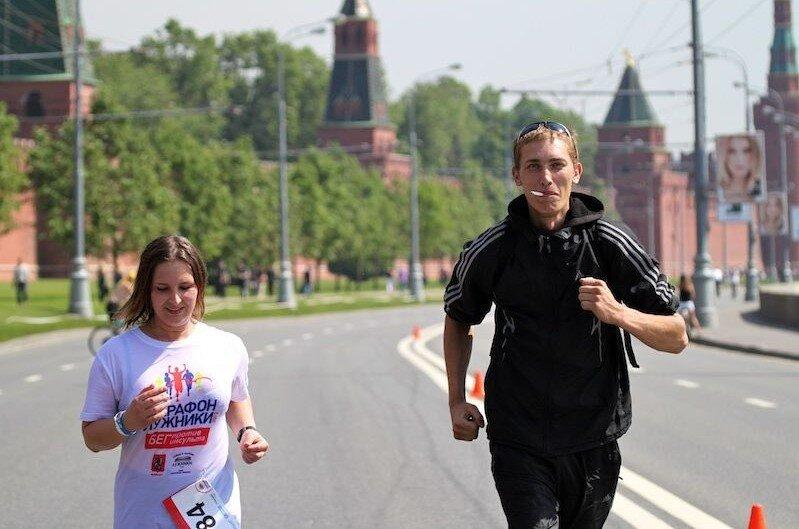cigarette: (531, 191, 545, 196)
